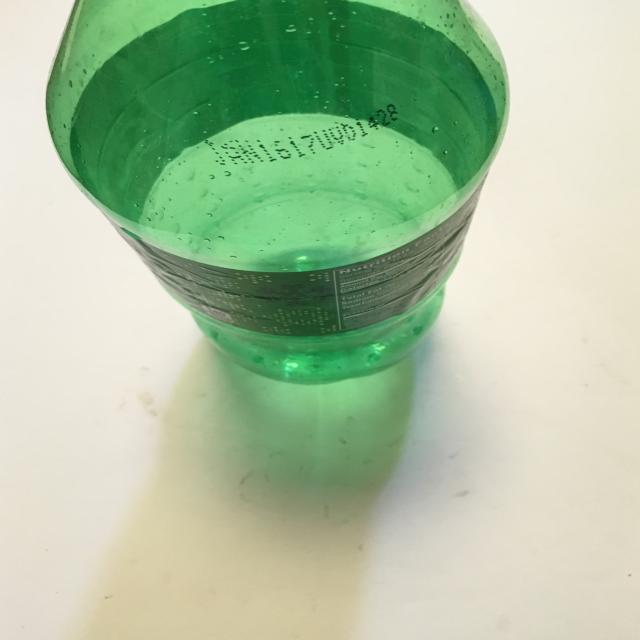plastic: (44, 0, 510, 385)
